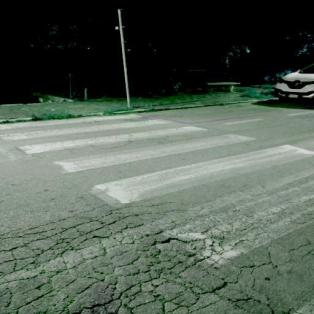Paso de Cebra: (51, 130, 314, 209)
